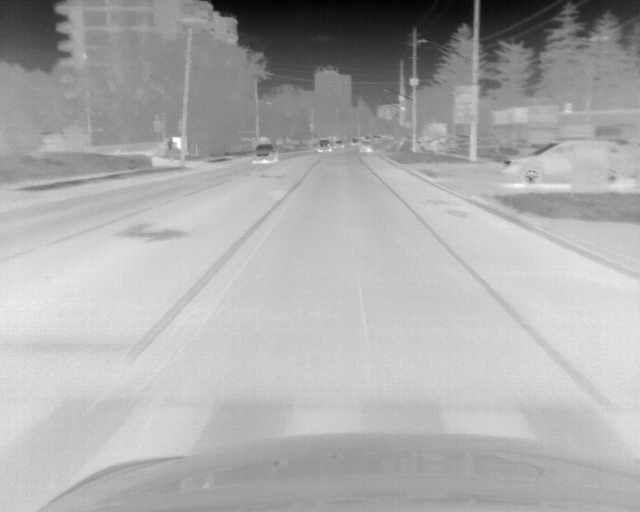car: (504, 137, 638, 190), (252, 143, 279, 164), (317, 139, 331, 153), (361, 141, 372, 153), (333, 140, 343, 149), (350, 137, 359, 146), (372, 135, 381, 143), (363, 136, 371, 141)
